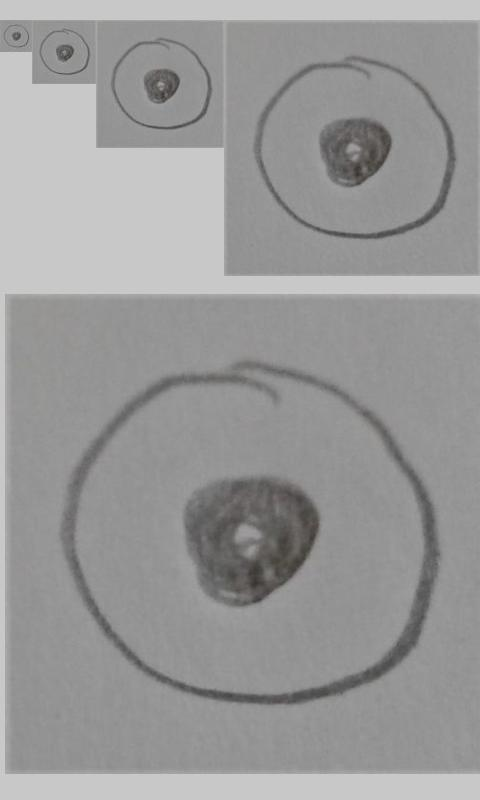radio_button: (58, 357, 442, 709), (252, 53, 457, 244), (111, 36, 213, 130), (39, 28, 91, 76), (3, 24, 30, 48)
